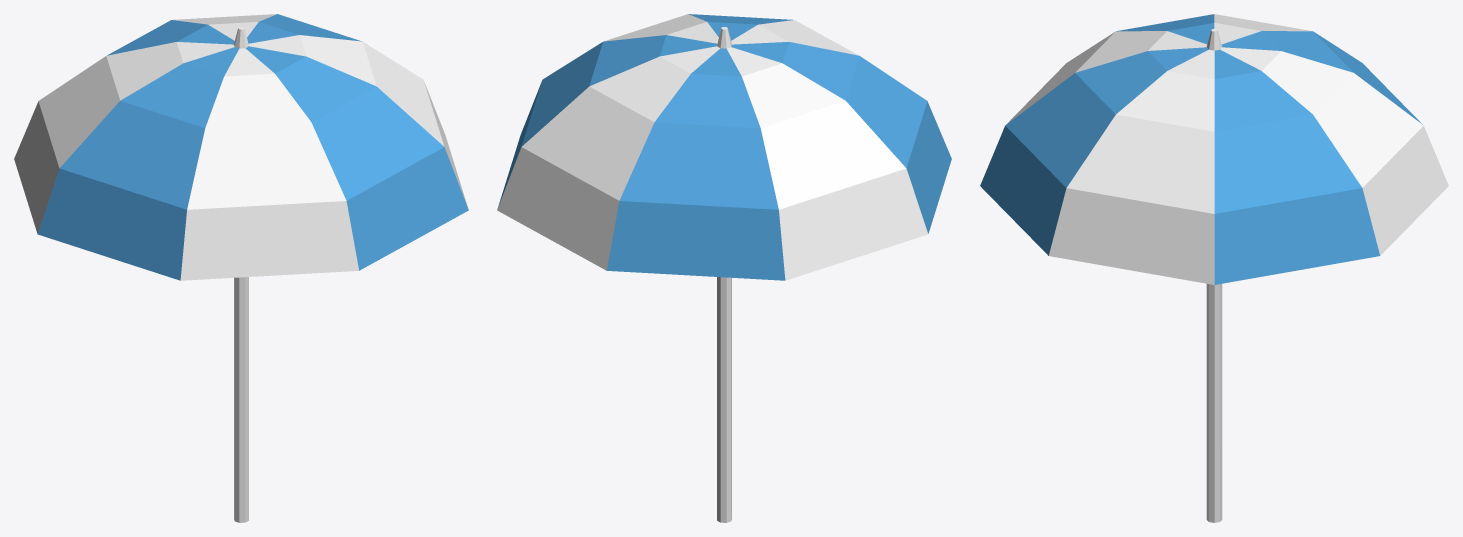
File: umbrella.glb
3 views of the same model, side by side, from view 1: azimuth 30°, elevation 25°; view 2: azimuth 150°, elevation 25°; view 3: azimuth 270°, elevation 25° (orthographic).
Parts seen in each view (by area): view 1: Cylinder; view 2: Cylinder; view 3: Cylinder.
Boxes of the visible parts, left/top/right/bottom form: Cylinder: left=14, top=14, right=468, bottom=522; Cylinder: left=497, top=14, right=951, bottom=522; Cylinder: left=980, top=14, right=1448, bottom=522.
Size of the model in its own units: 6 by 6.91 by 6.
